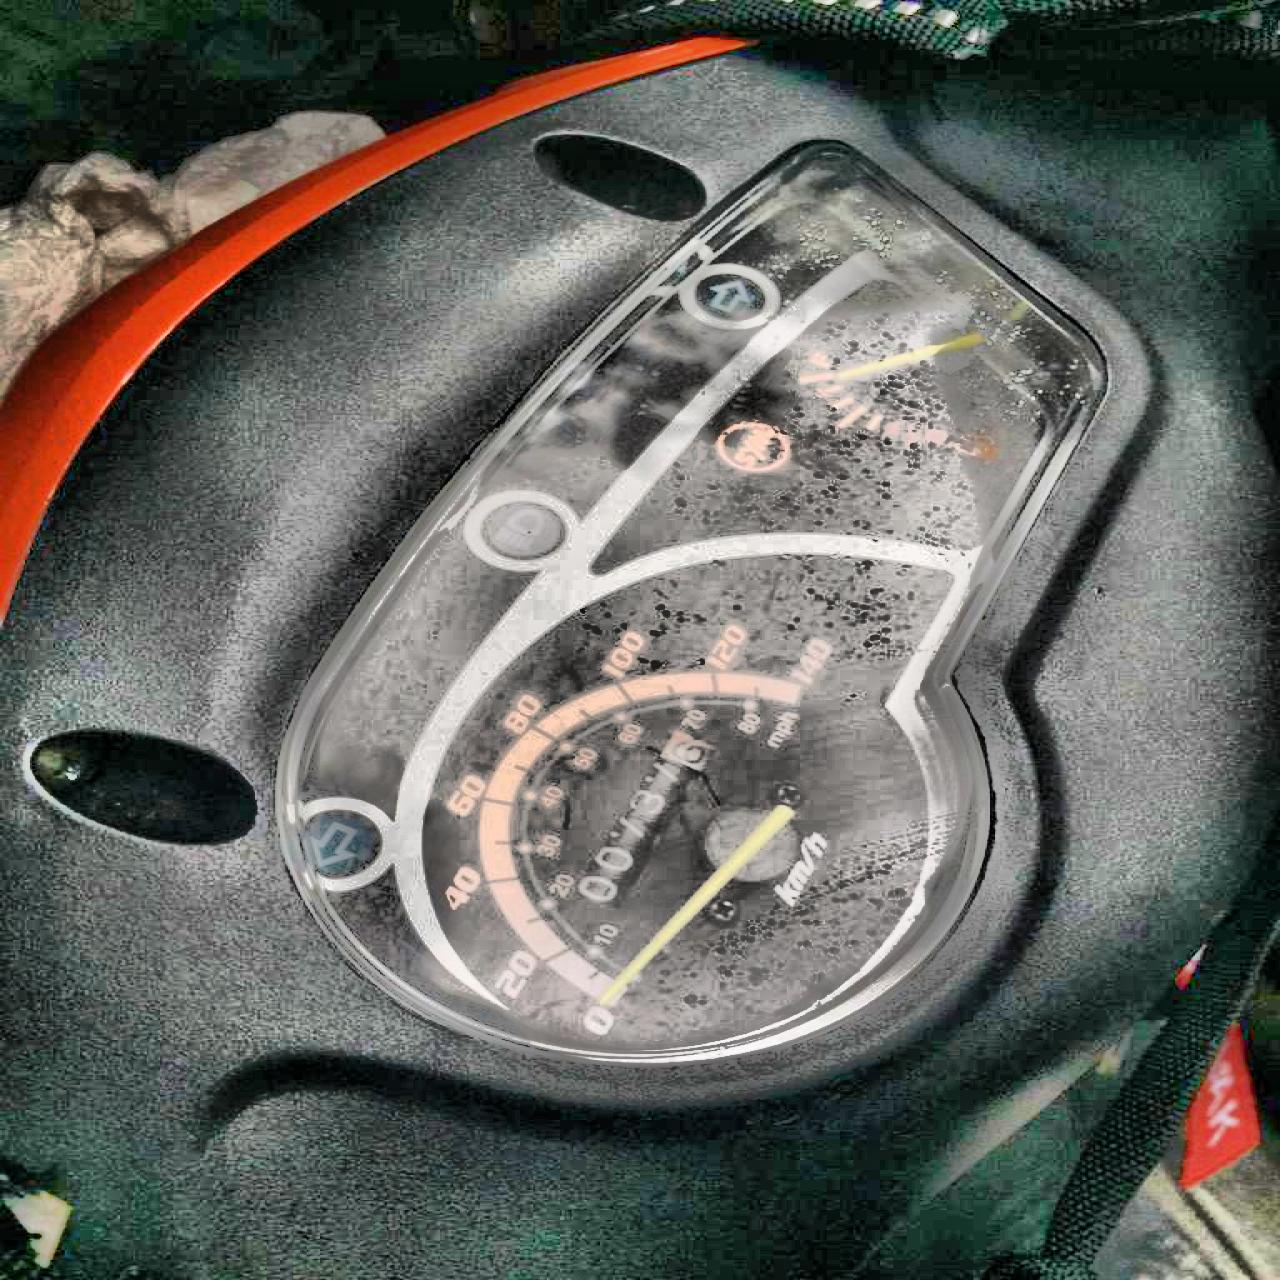0: (577, 874, 620, 901), (593, 845, 635, 871), (577, 745, 597, 760)
3: (625, 787, 668, 815)
5: (572, 755, 591, 769)
6: (668, 737, 707, 763), (615, 731, 635, 742)
7: (640, 761, 680, 785), (607, 815, 645, 840)
odometer: (564, 730, 724, 914)
